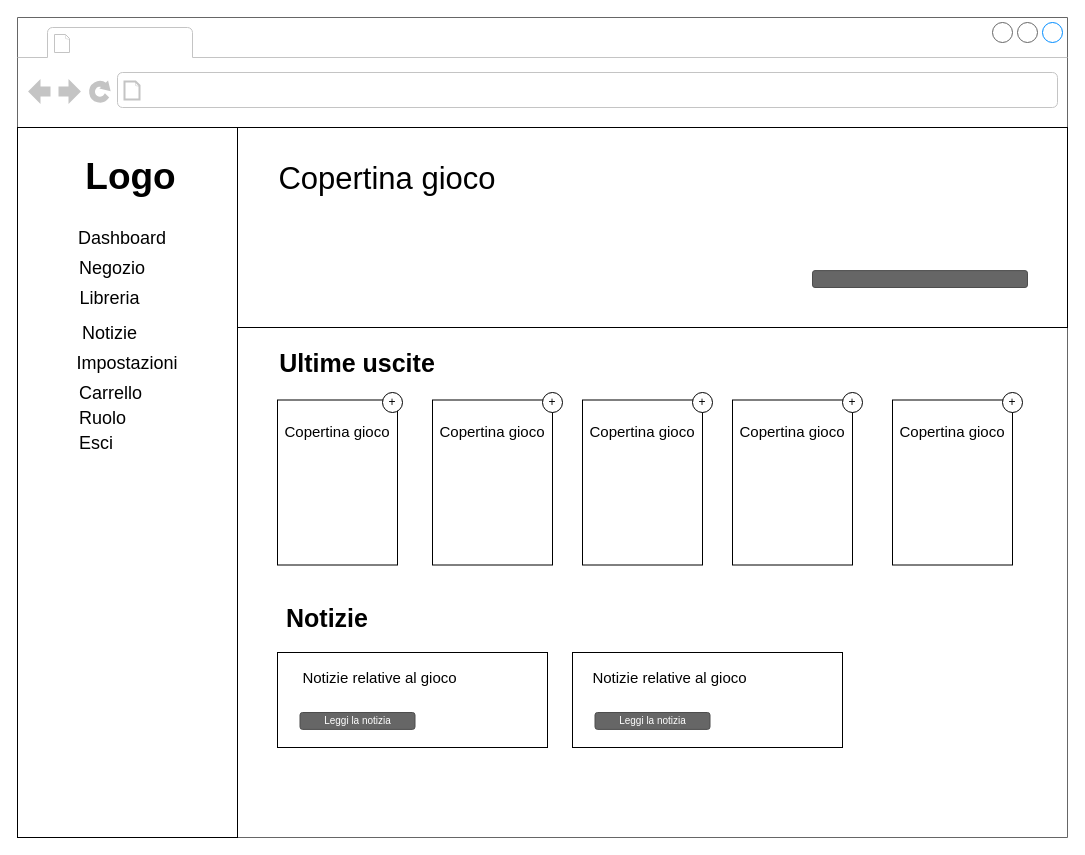
This 1085x855 diagram has some shape labels left out. Here are the shapes that lost their labels. From the top down, the centre of each, then its label:
the point at 132,42: Page 1
the point at 272,90: https://www.default.com
the point at 920,279: Effettua il login
